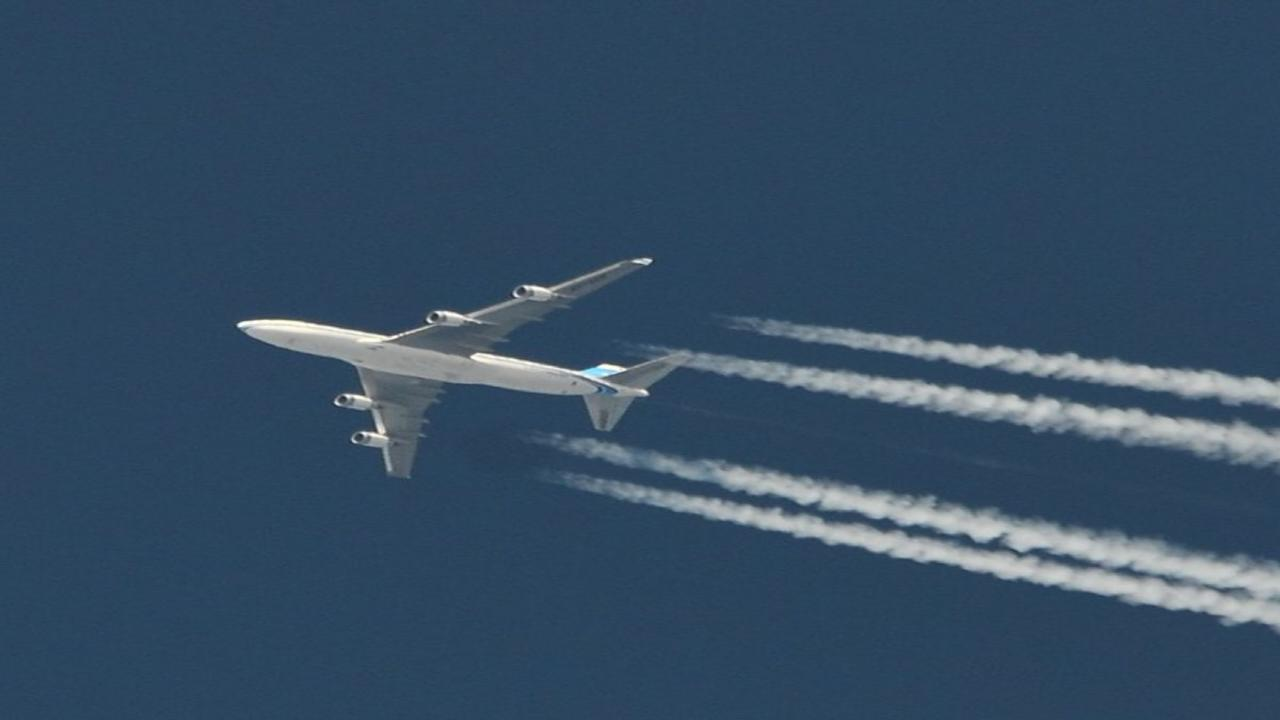Airplane: (215, 244, 723, 491)
